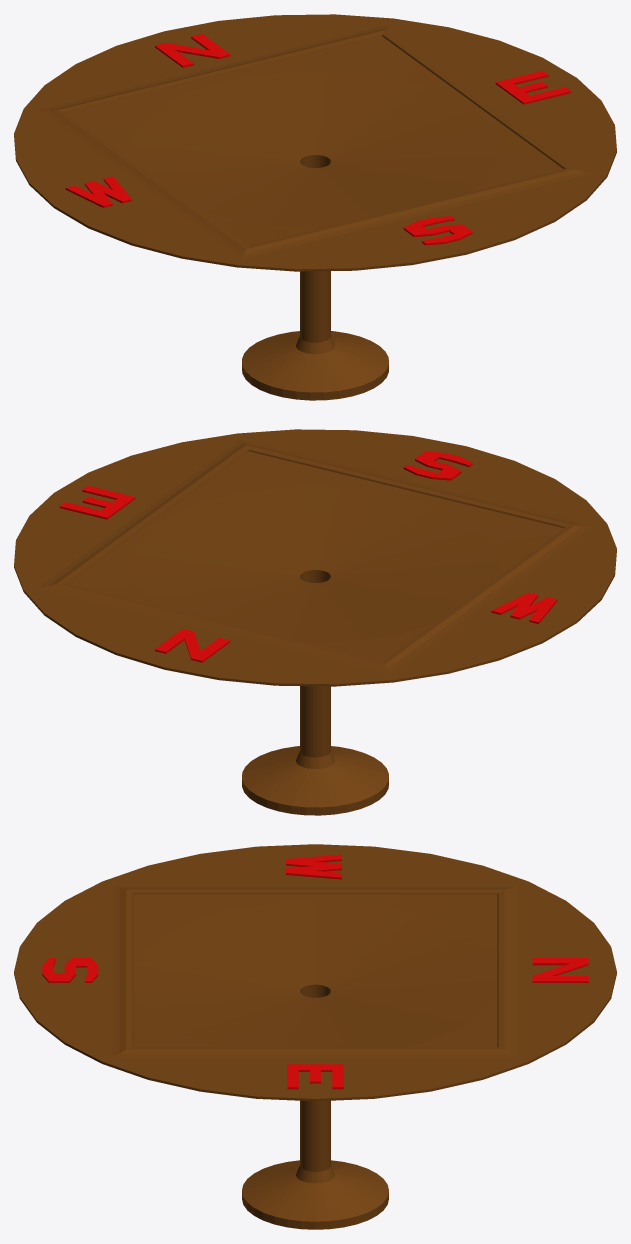
3 renders of one model, top to bottom at view 1: azimuth 30°, elevation 25°; view 2: azimuth 150°, elevation 25°; view 3: azimuth 270°, elevation 25°, orthographic.
Visible parts, largest first — view 1: Circle, Cube; view 2: Circle, Cube; view 3: Circle, Cube.
Part boxes in pixels (<box>): Circle: <box>14,14,616,400</box>; Cube: <box>65,34,571,245</box>; Circle: <box>14,429,616,815</box>; Cube: <box>59,451,557,662</box>; Circle: <box>14,844,616,1229</box>; Cube: <box>42,854,588,1089</box>.
Bounding box in the file's own units: 109 × 109 × 45.76.
